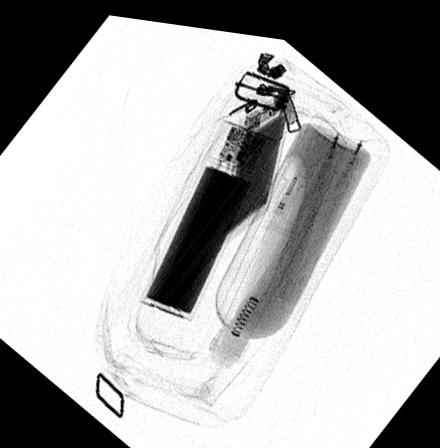Powerbank: (137, 112, 276, 315), (223, 81, 290, 233)
